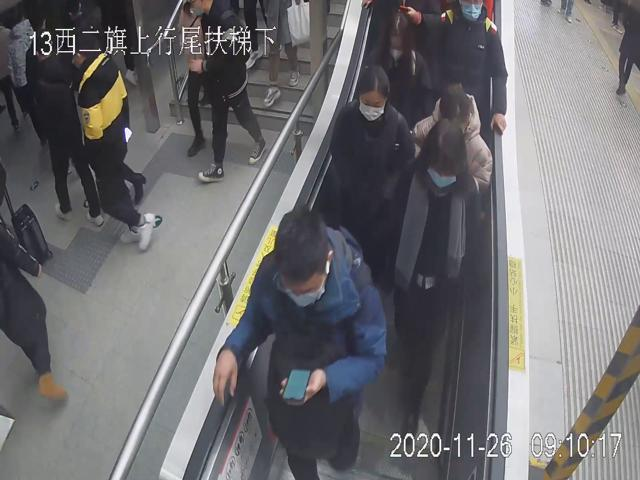person: (211, 205, 388, 480), (378, 116, 481, 451), (319, 61, 417, 279), (68, 32, 155, 254), (411, 81, 495, 197), (359, 5, 435, 117)
